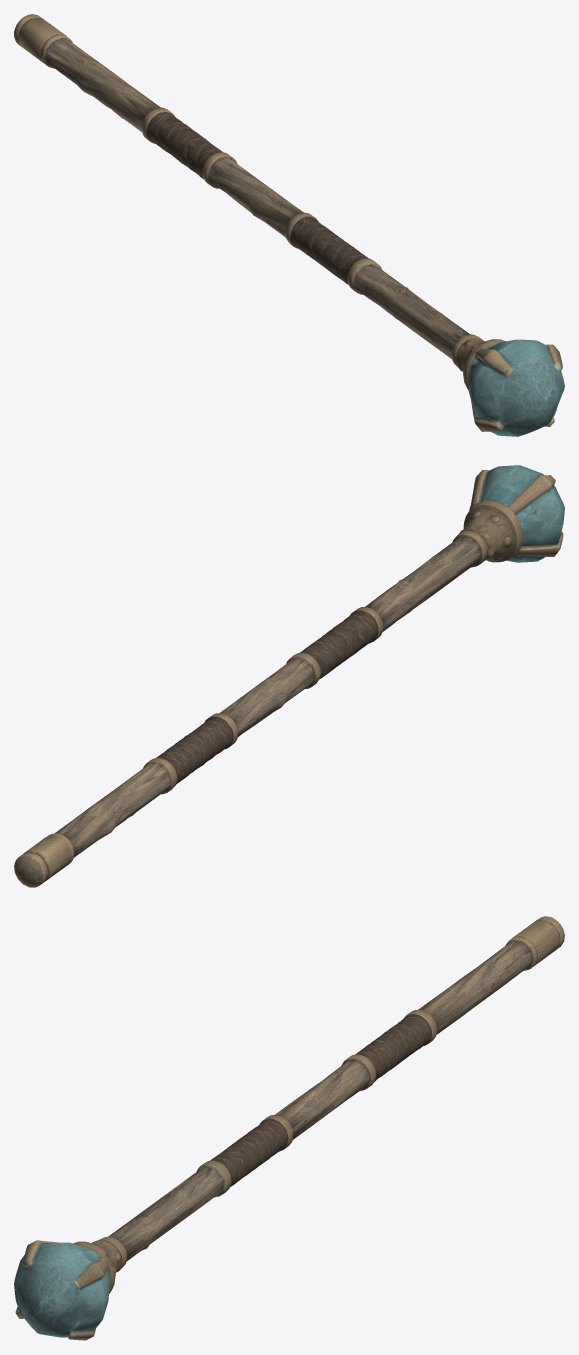
Rendered from staff.glb.
The picture shows the model from 3 angles, top to bottom: view 1: azimuth 30°, elevation 25°; view 2: azimuth 150°, elevation 25°; view 3: azimuth 330°, elevation 25°; orthographic projection.
Parts seen in each view (by area): view 1: staff; view 2: staff; view 3: staff.
Part boxes in pixels (x1,y1,x2,y2): staff: (14, 14, 564, 436); staff: (14, 465, 564, 887); staff: (14, 916, 564, 1340).
Size of the model in its own units: 0.1765 by 0.1761 by 1.75.
1 material, 1 textured.
